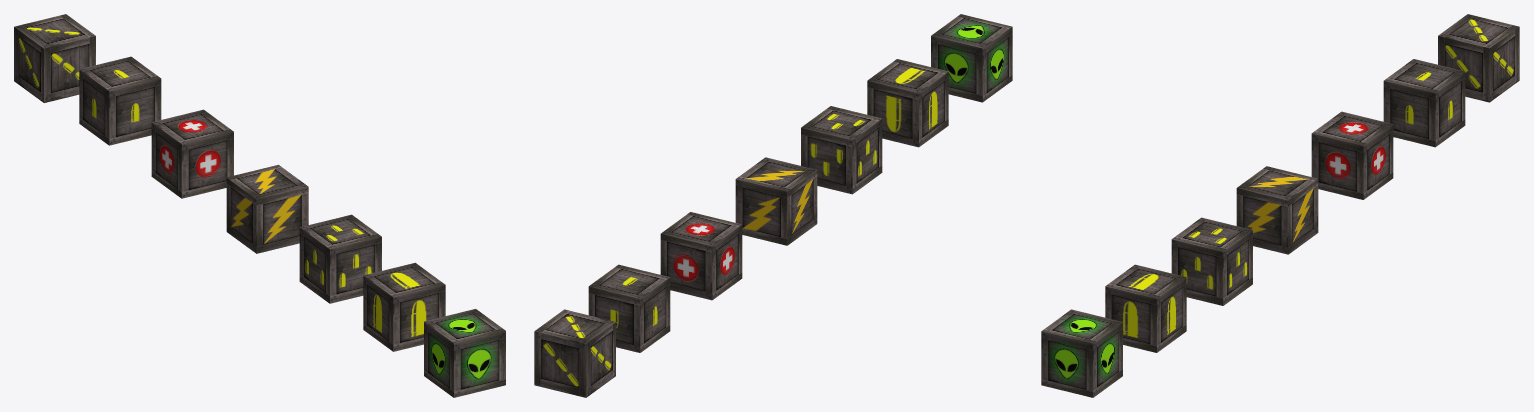
File: CarePackages.fbx
3 views of the same model, side by side, from view 1: azimuth 30°, elevation 25°; view 2: azimuth 150°, elevation 25°; view 3: azimuth 330°, elevation 25° (orthographic).
Visible parts, largest first — view 1: AlienCarePackage, HealthCarePkg, BulletCarePkg, SpeedBoostCarePkg, ConeShotCarePkg, TriBurstPkg, BigBulletCarePkg; view 2: TriBurstPkg, SpeedBoostCarePkg, HealthCarePkg, ConeShotCarePkg, BigBulletCarePkg, AlienCarePackage, BulletCarePkg; view 3: AlienCarePackage, HealthCarePkg, BulletCarePkg, SpeedBoostCarePkg, ConeShotCarePkg, BigBulletCarePkg, TriBurstPkg.
Part boxes in pixels (x1,y1,x2,y2): AlienCarePackage: [424, 309, 505, 397]; HealthCarePkg: [151, 109, 233, 198]; BulletCarePkg: [79, 56, 161, 145]; SpeedBoostCarePkg: [226, 164, 308, 253]; ConeShotCarePkg: [299, 214, 381, 303]; TriBurstPkg: [14, 14, 95, 102]; BigBulletCarePkg: [363, 262, 445, 351]; TriBurstPkg: [534, 309, 615, 397]; SpeedBoostCarePkg: [735, 157, 817, 245]; HealthCarePkg: [660, 212, 742, 300]; ConeShotCarePkg: [801, 106, 882, 194]; BigBulletCarePkg: [867, 59, 948, 147]; AlienCarePackage: [931, 14, 1012, 102]; BulletCarePkg: [588, 264, 670, 352]; AlienCarePackage: [1041, 309, 1122, 397]; HealthCarePkg: [1311, 111, 1393, 199]; BulletCarePkg: [1383, 59, 1465, 147]; SpeedBoostCarePkg: [1236, 166, 1318, 254]; ConeShotCarePkg: [1171, 217, 1252, 305]; BigBulletCarePkg: [1105, 264, 1186, 352]; TriBurstPkg: [1438, 14, 1519, 102].
Size of the model in its own units: 1.17 by 1 by 14.45.
7 materials, 7 textured.
